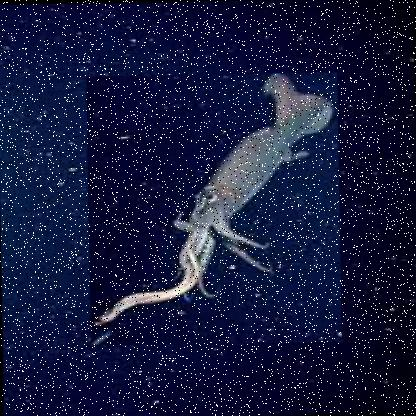colossal_squid: (86, 71, 343, 345)
